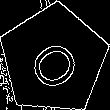O_NE: (21, 28, 86, 91)
